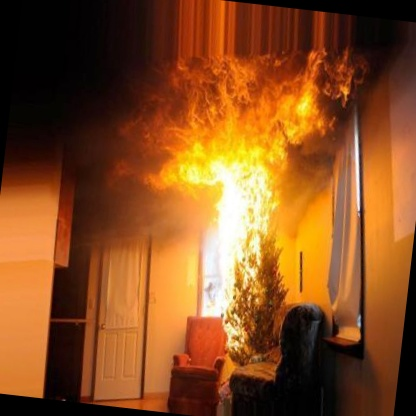fire: (113, 0, 390, 369)
